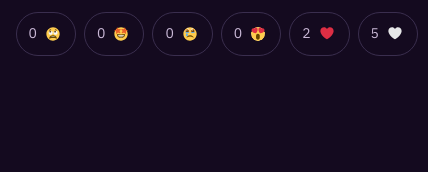
ReactionBar › writes the prediction into the cache before the server answers
This screenshot has width=428, height=172.
What coordinates should you click on to do the following:
click the button named "أعجبني"
I would click on:
 (388, 34)
Its box is [358, 12, 418, 56].
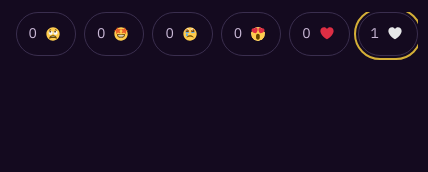
Expected: the button named "أعجبني" reads "1", [358, 12, 418, 56]
